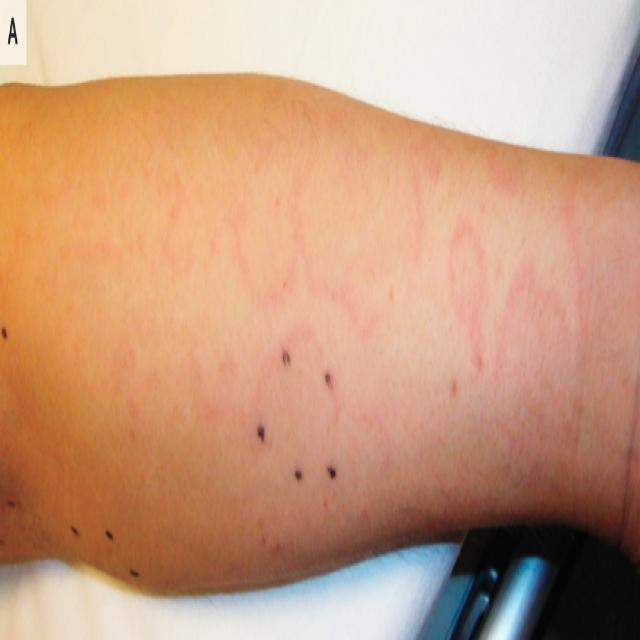Erythema marginatum: (185, 163, 481, 489)
